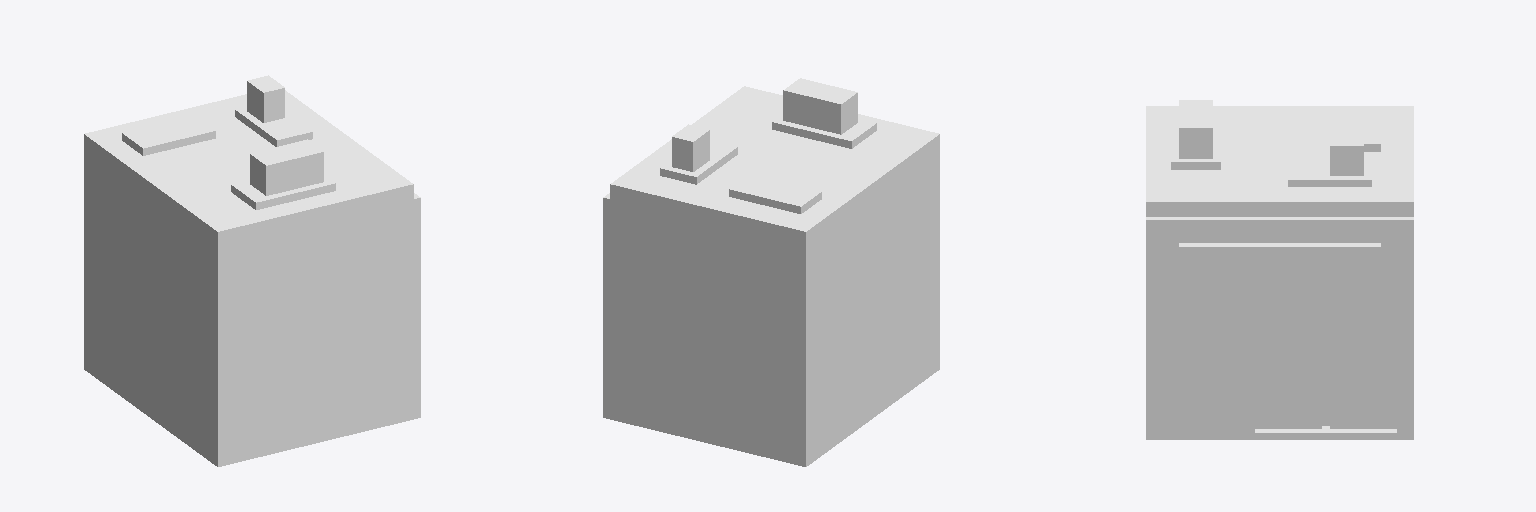
File: build1.obj
3 renders of one model, left to right at view 1: azimuth 30°, elevation 25°; view 2: azimuth 150°, elevation 25°; view 3: azimuth 270°, elevation 25°, orthographic.
Visible parts, largest first — view 1: build1; view 2: build1; view 3: build1.
Part boxes in pixels (x1,y1,x2,y2): build1: (84, 75, 420, 466); build1: (603, 78, 939, 466); build1: (1146, 100, 1413, 439).
Size of the model in its own units: 29 by 36 by 32.